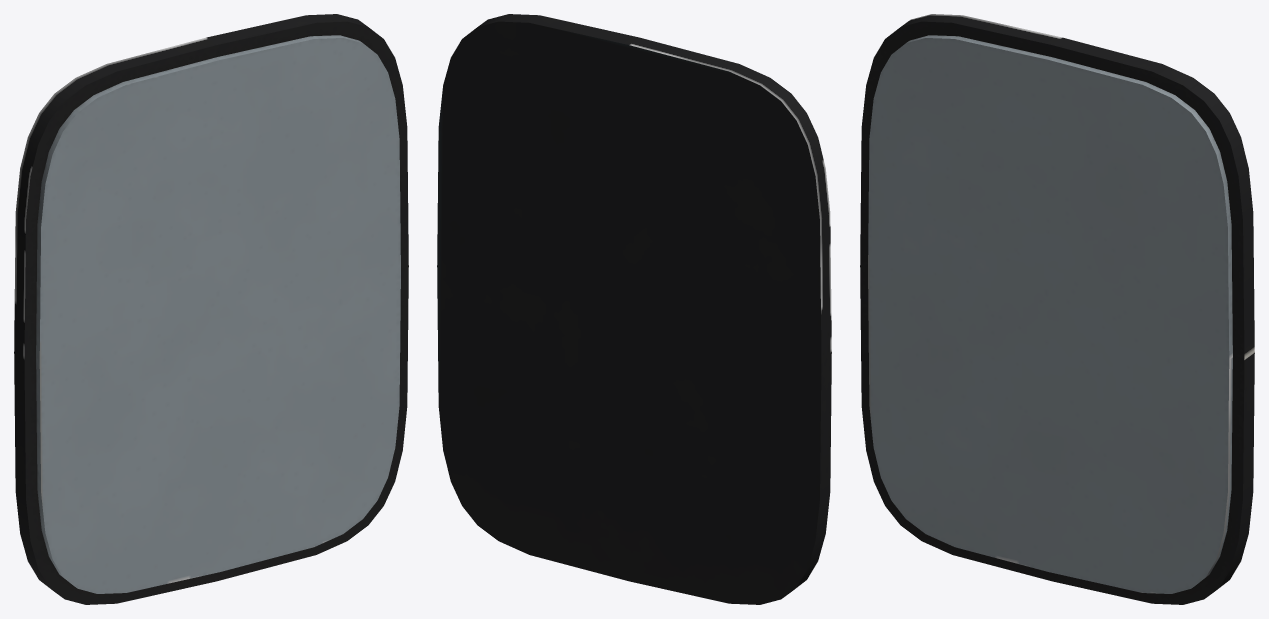
Rendered from H_Mirror.fbx.
3 renders of one model, left to right at view 1: azimuth 30°, elevation 25°; view 2: azimuth 150°, elevation 25°; view 3: azimuth 330°, elevation 25°, orthographic.
Visible parts, largest first — view 1: H_Mirror; view 2: H_Mirror; view 3: H_Mirror.
Part boxes in pixels (bbox=[...]): H_Mirror: bbox=[14, 14, 408, 604]; H_Mirror: bbox=[437, 14, 831, 604]; H_Mirror: bbox=[860, 14, 1254, 604].
Size of the model in its own units: 300 by 400 by 19.
Materials: 1 (1 with a texture image).
